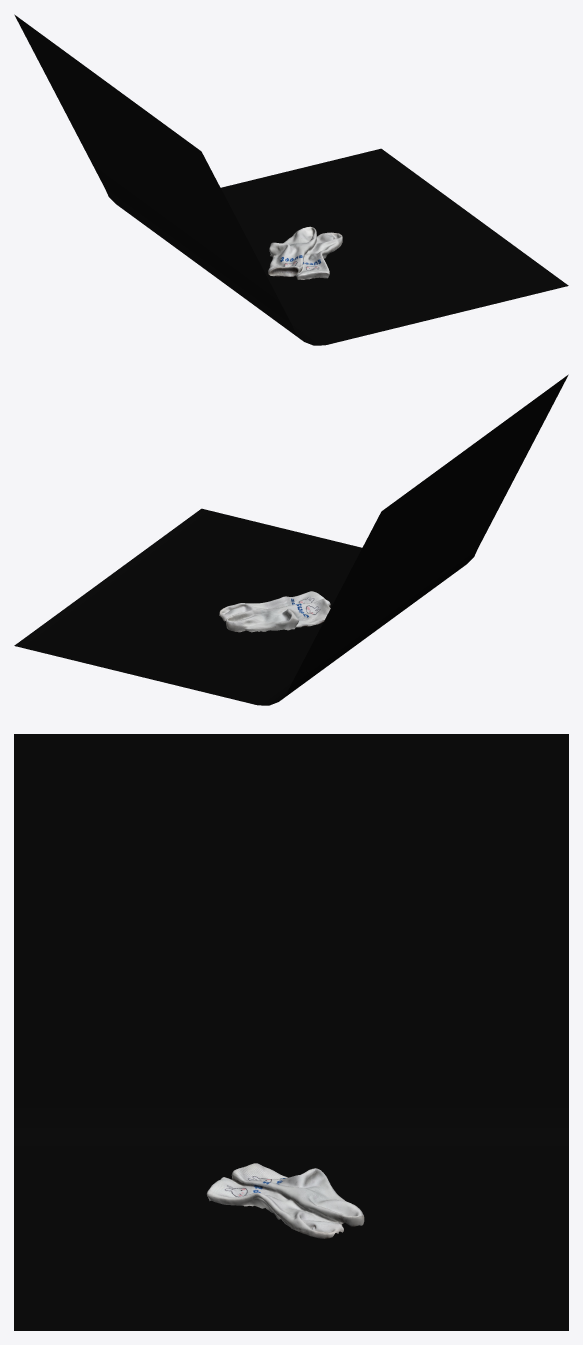
File: aesthetic_cute_white_socks.glb
3 renders of one model, top to bottom at view 1: azimuth 30°, elevation 25°; view 2: azimuth 150°, elevation 25°; view 3: azimuth 270°, elevation 25°, orthographic. The views are drawn at different scales.
Visible parts, largest first — view 1: Cube, textured.001; view 2: Cube, textured.001; view 3: Cube, textured.001.
Part boxes in pixels (x1=…): Cube: x1=14, y1=14, x2=568, y2=345; textured.001: x1=268, y1=226, x2=342, y2=279; Cube: x1=14, y1=374, x2=568, y2=705; textured.001: x1=219, y1=591, x2=330, y2=632; Cube: x1=14, y1=734, x2=568, y2=1330; textured.001: x1=206, y1=1163, x2=364, y2=1238.
Bounding box in the file's own units: 15.6 × 9.1 × 13.79.
2 materials, 1 textured.
